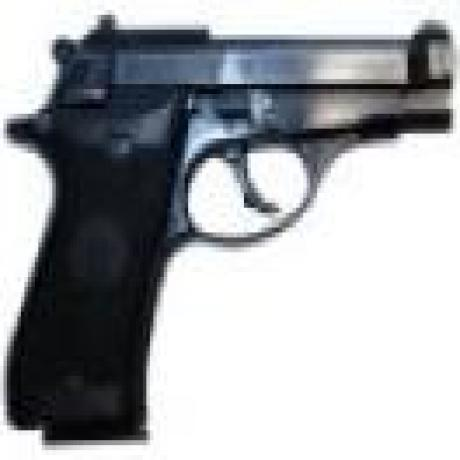weapon: (11, 20, 456, 442)
